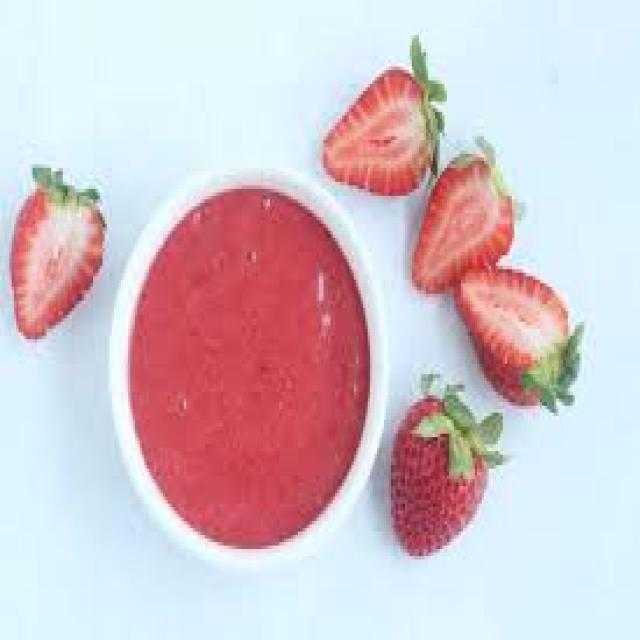strawberry: (384, 370, 510, 565), (306, 48, 441, 194), (454, 264, 574, 408), (10, 166, 105, 341), (412, 143, 517, 294)
